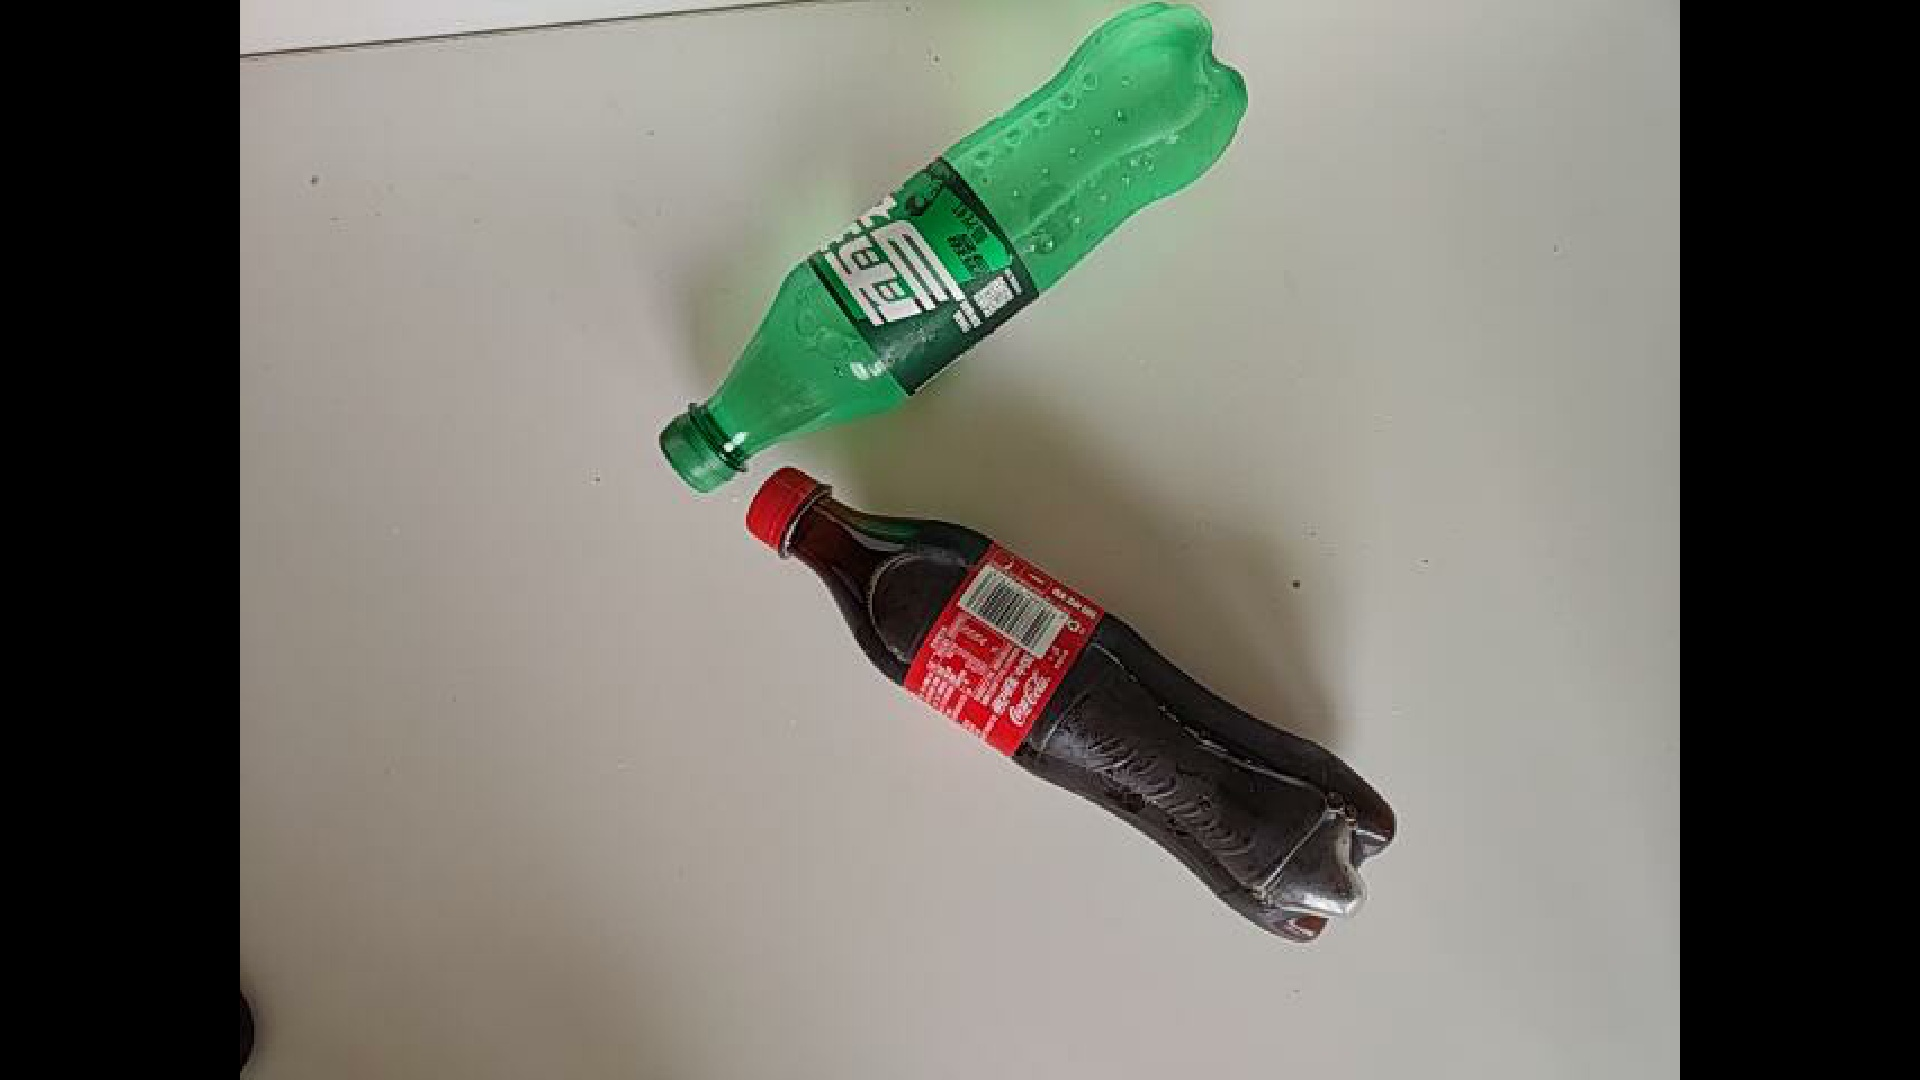cola: (219, 414, 1425, 899)
sprite: (658, 0, 1250, 495)
